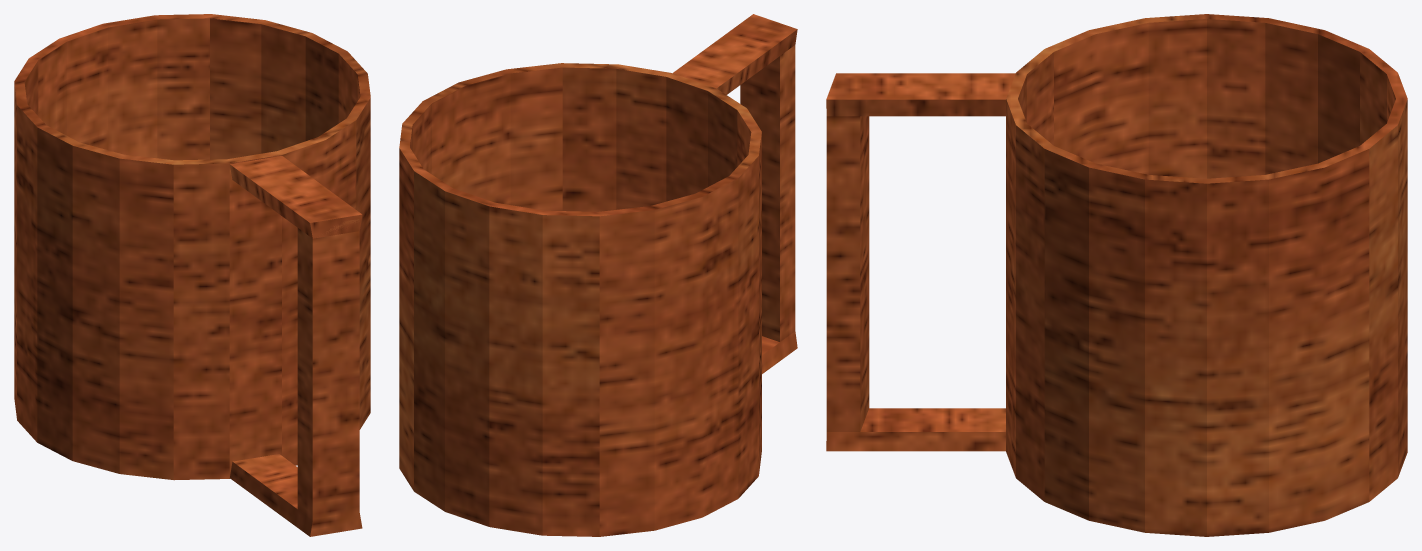
Rendered from Cup.fbx.
3 renders of one model, left to right at view 1: azimuth 30°, elevation 25°; view 2: azimuth 150°, elevation 25°; view 3: azimuth 270°, elevation 25°, orthographic. The views are drawn at different scales.
Parts seen in each view (by area): view 1: cup; view 2: cup; view 3: cup.
Boxes of the visible parts, bbox=[...] form: cup: bbox=[14, 14, 370, 536]; cup: bbox=[399, 14, 797, 536]; cup: bbox=[826, 14, 1407, 536].
Bounding box in the file's own units: 9.96 × 9.66 × 14.42.
